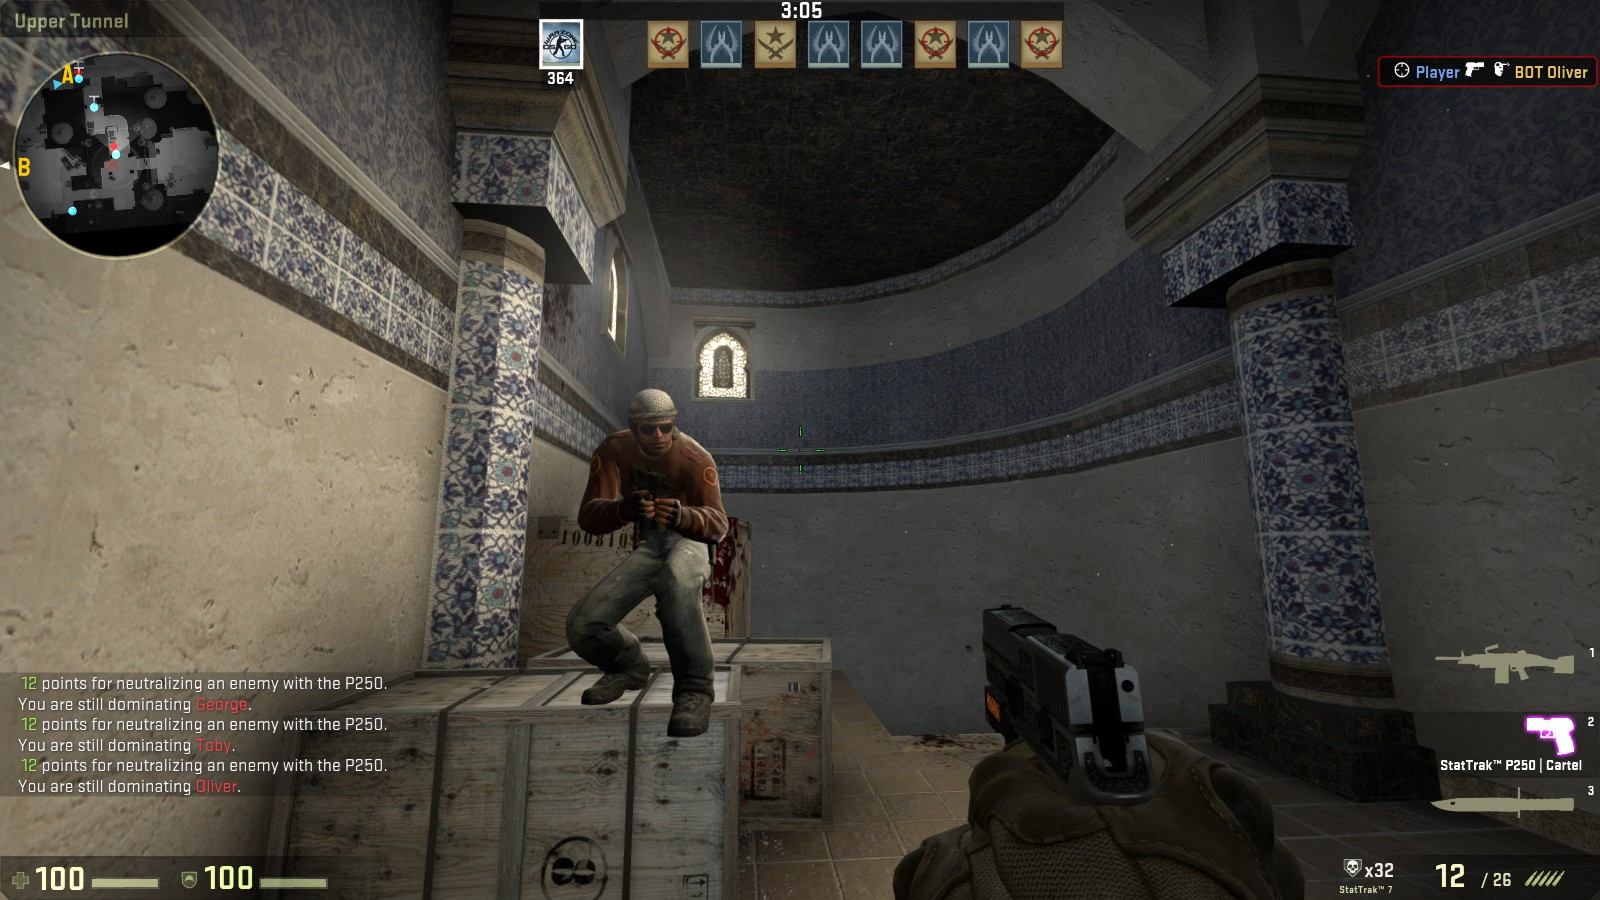t: (571, 380, 727, 735)
th: (625, 384, 684, 455)
